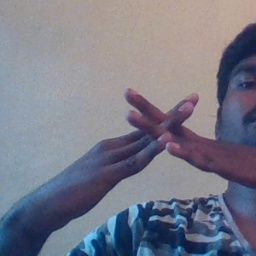W: (98, 77, 221, 192)
